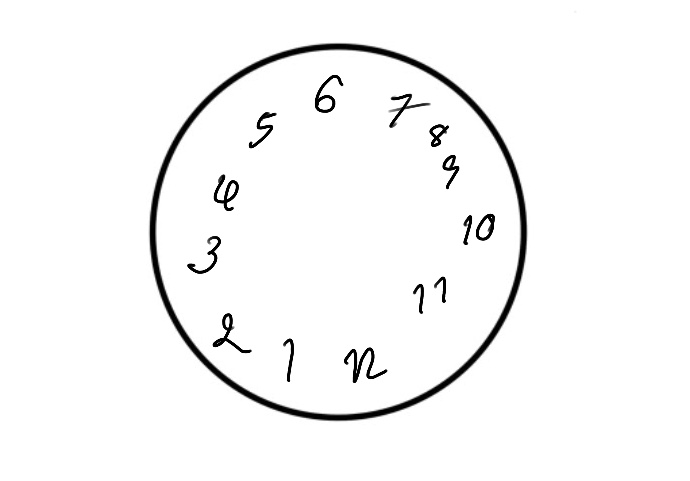eight: (423, 114, 450, 151)
eleven: (406, 271, 455, 322)
five: (247, 96, 280, 150)
four: (213, 174, 251, 215)
nine: (439, 151, 463, 201)
one: (278, 334, 303, 388)
seven: (379, 84, 430, 132)
six: (312, 68, 345, 112)
ten: (459, 204, 498, 251)
three: (185, 230, 223, 277)
twelve: (337, 344, 392, 385)
two: (210, 303, 255, 355)
